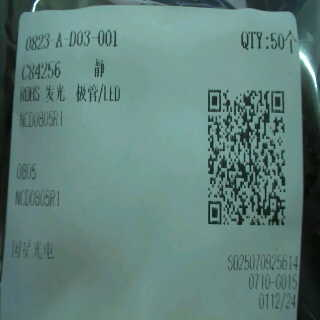LED: (46, 81, 126, 105)
